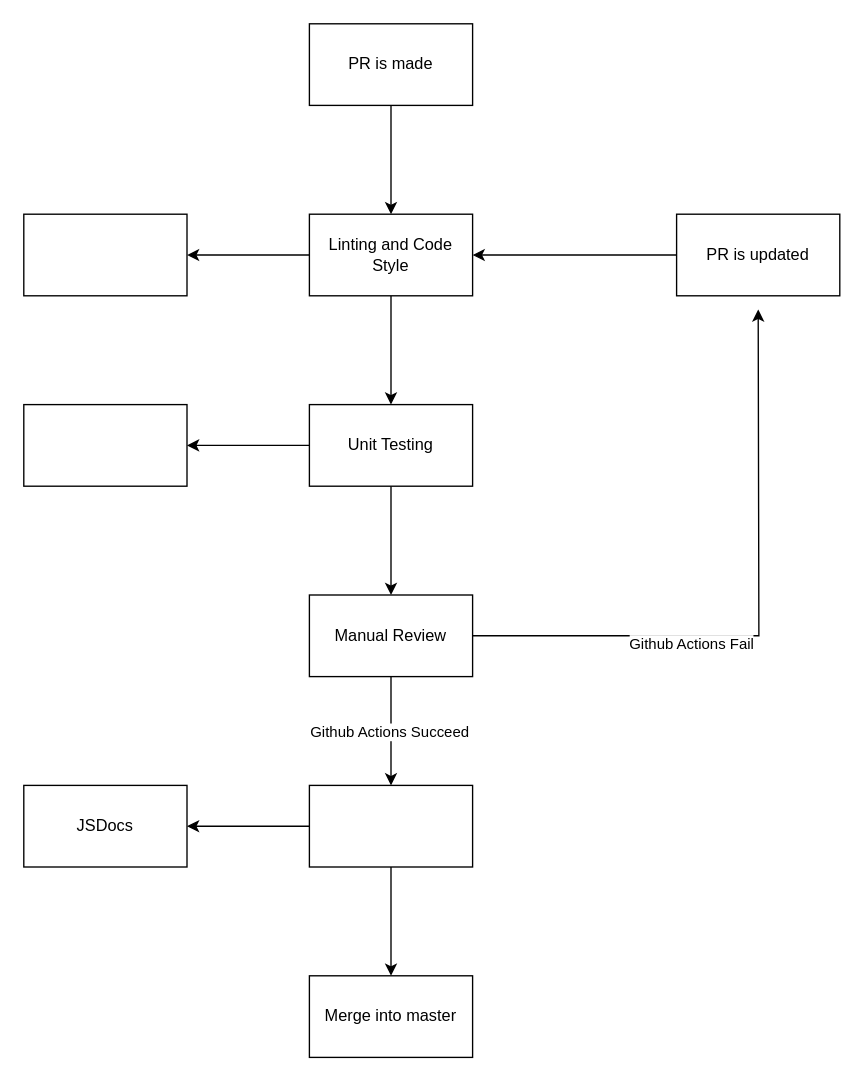
This 864x1081 diagram has some shape labels left out. The shapes that lost their labels are listed below. From the top down, each one's centre as x and y in pixels, then its label:
At (104,254): "Github's Super Linter handles JS, CSS, and HTML".
At (104,444): "Jest".
At (390,825): "Documentation".
